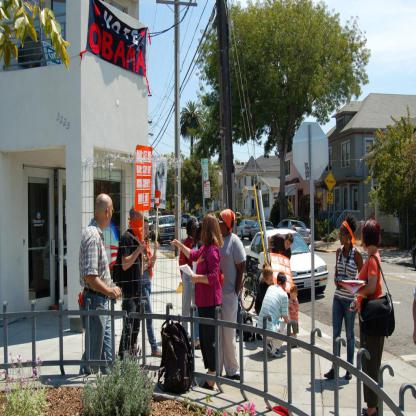face: (107, 202, 114, 225), (136, 211, 145, 228), (340, 227, 348, 246), (219, 215, 226, 234), (143, 222, 149, 237), (193, 224, 199, 237), (285, 239, 292, 250), (268, 276, 274, 286), (291, 293, 296, 302)
